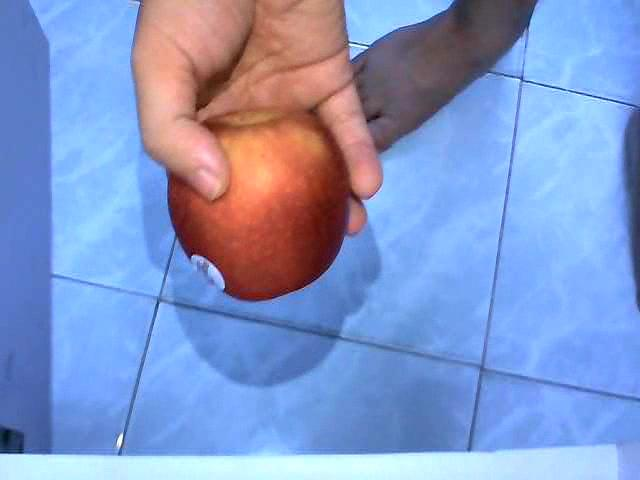apple: (166, 106, 350, 303)
